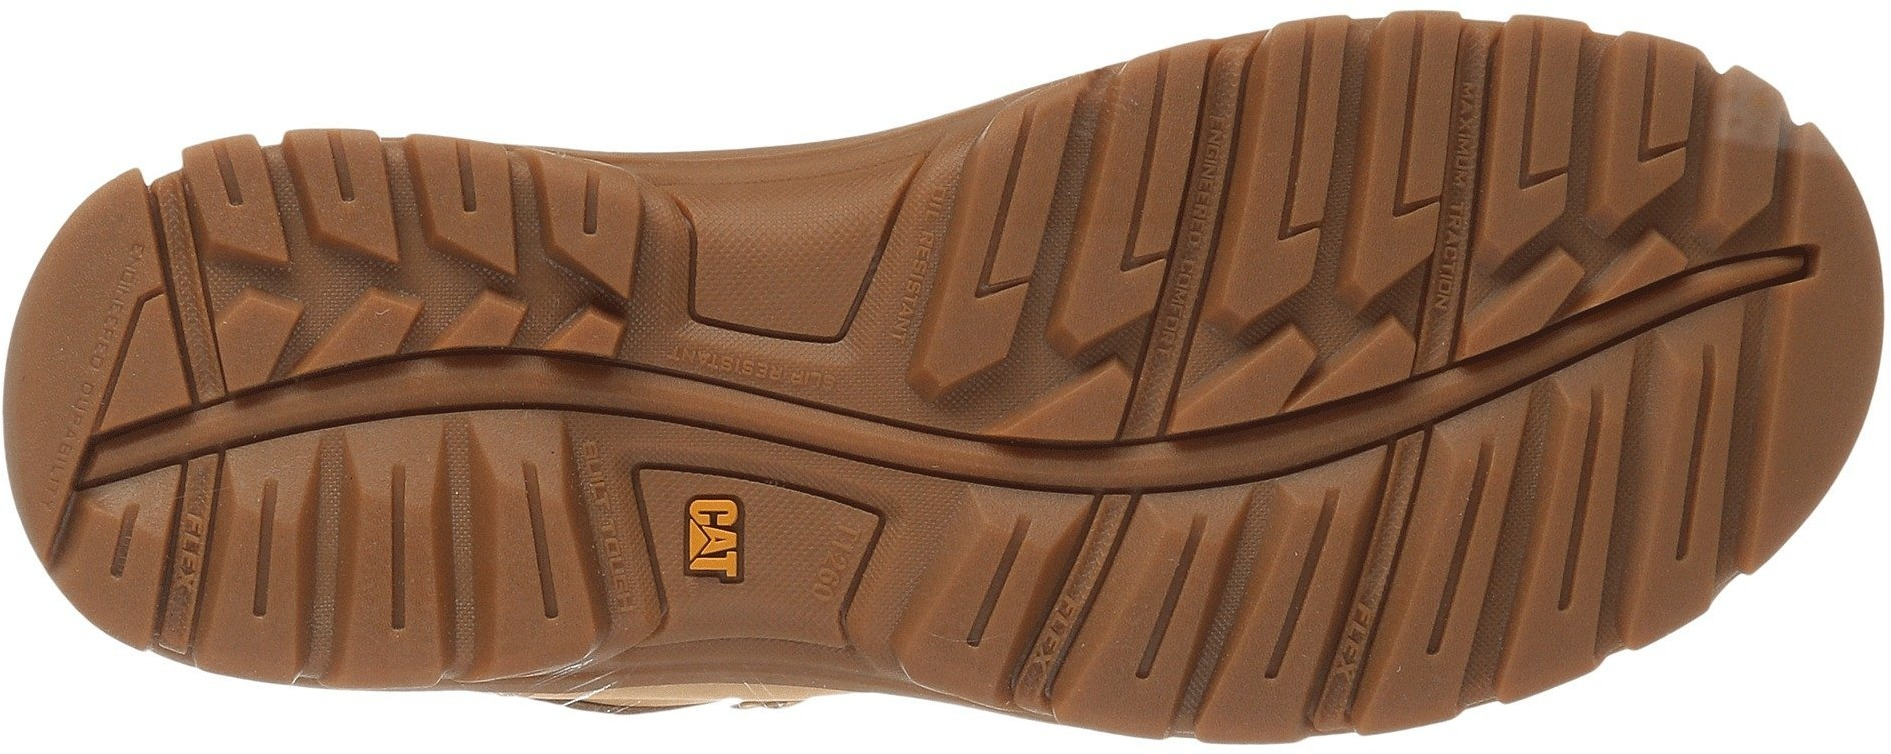text: (652, 483, 763, 595)
